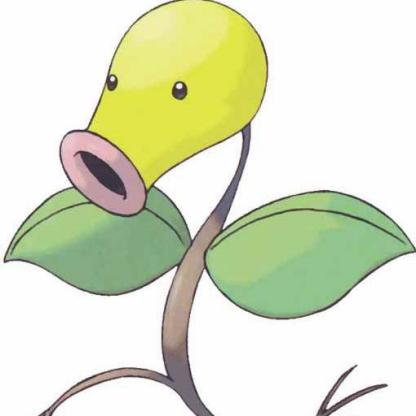Bellsprout: (27, 1, 416, 416)
